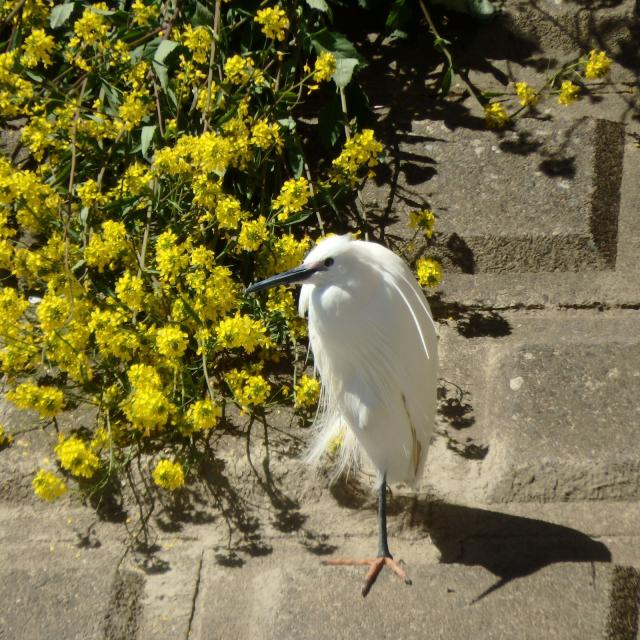bird: (236, 222, 459, 592)
